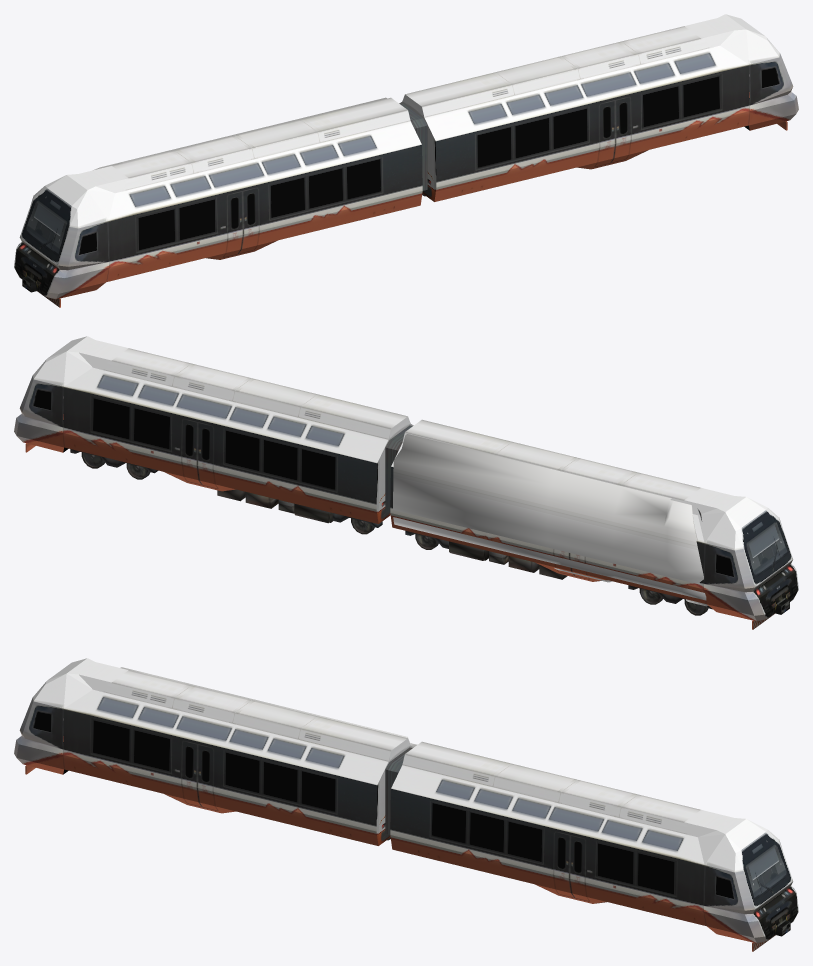
The model's file is TRENv2.fbx.
The picture shows the model from 3 angles, top to bottom: view 1: azimuth 30°, elevation 25°; view 2: azimuth 150°, elevation 25°; view 3: azimuth 330°, elevation 25°; orthographic projection.
Visible parts, largest first — view 1: Cube, Cube.006, tren v1; view 2: Cube, tren v1, Cube.006; view 3: Cube, Cube.006, tren v1.
Part boxes in pixels (x1,y1,x2,y2): Cube: (14, 14, 798, 307); Cube.006: (400, 103, 427, 190); tren v1: (93, 97, 386, 170); Cube: (14, 336, 798, 629); tren v1: (393, 434, 708, 606); Cube.006: (385, 425, 412, 512); Cube: (14, 658, 798, 951); Cube.006: (385, 747, 412, 834); tren v1: (120, 667, 417, 747).
Bounding box in the file's own units: 4025 × 552 × 425.
